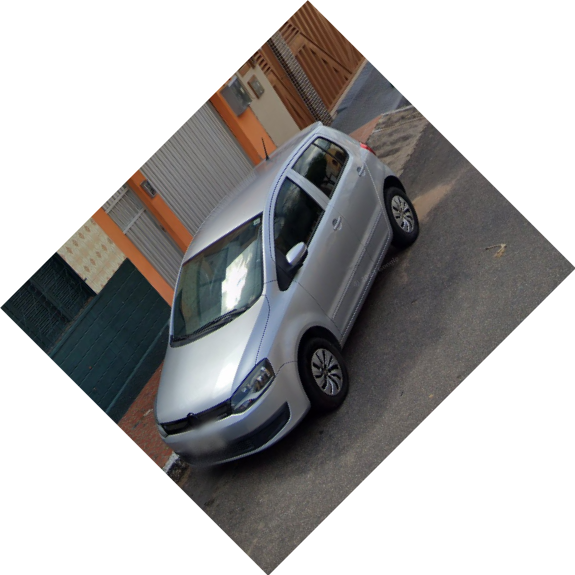car: (132, 117, 424, 472)
